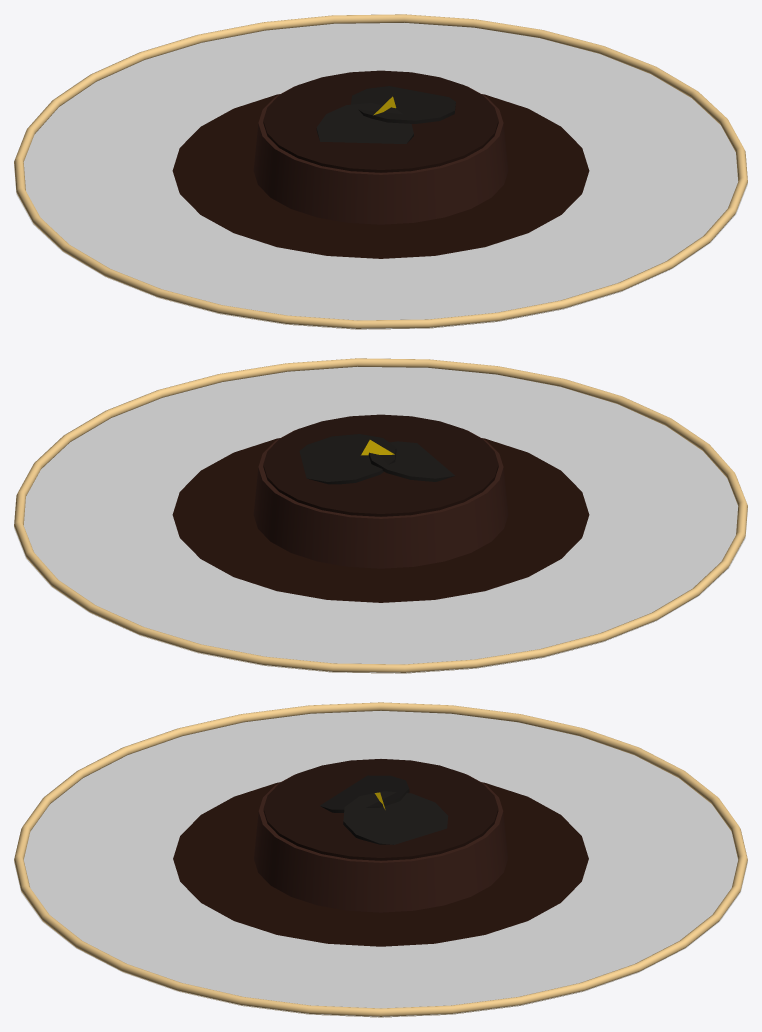
The model's file is a5-wagyu-ribeye.glb.
The picture shows the model from 3 angles, top to bottom: view 1: azimuth 30°, elevation 25°; view 2: azimuth 150°, elevation 25°; view 3: azimuth 270°, elevation 25°; orthographic projection.
Bounding box in the file's own units: 3 × 0.4401 × 3.
